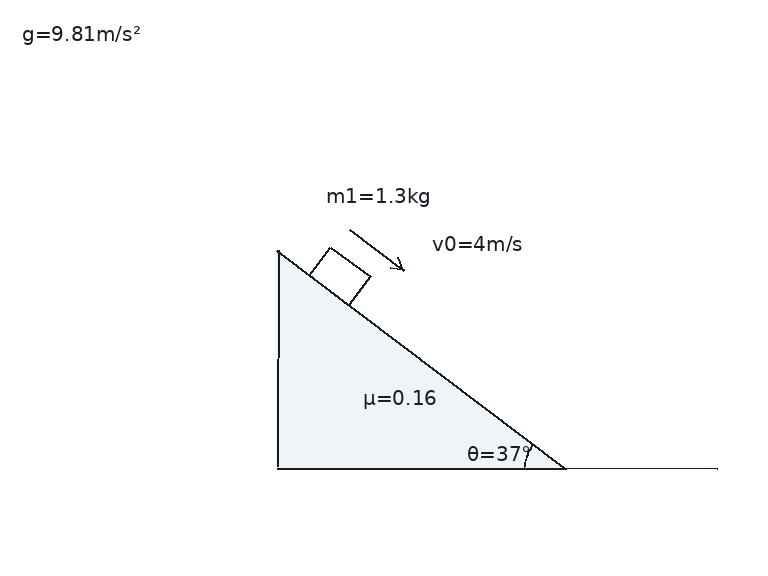block: (307, 245, 371, 306)
ramp: (275, 249, 567, 470)
